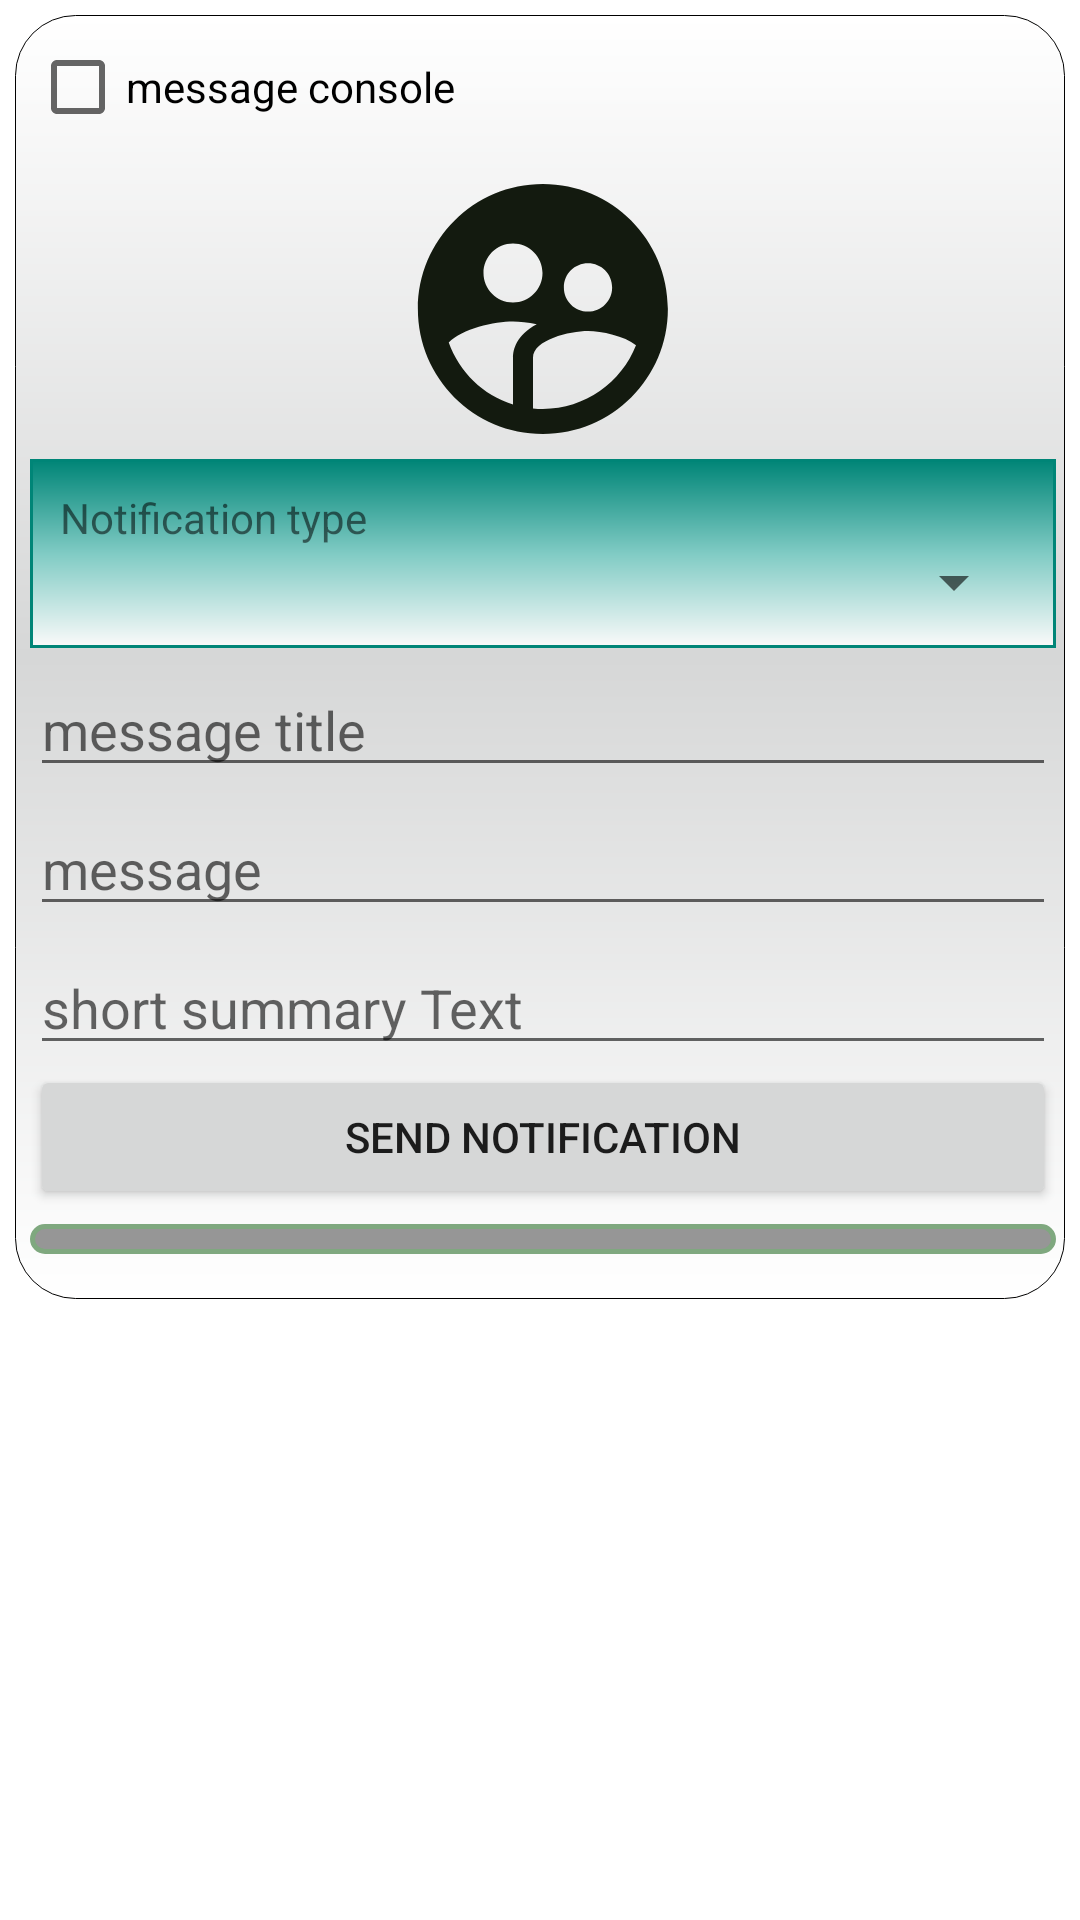

Icon bounding boxes for this 1080 x 1920 phone screenshot, format [x1=x1, y1=y1, x2=x2, y2=y2]:
users: [x1=417, y1=184, x2=668, y2=434]
